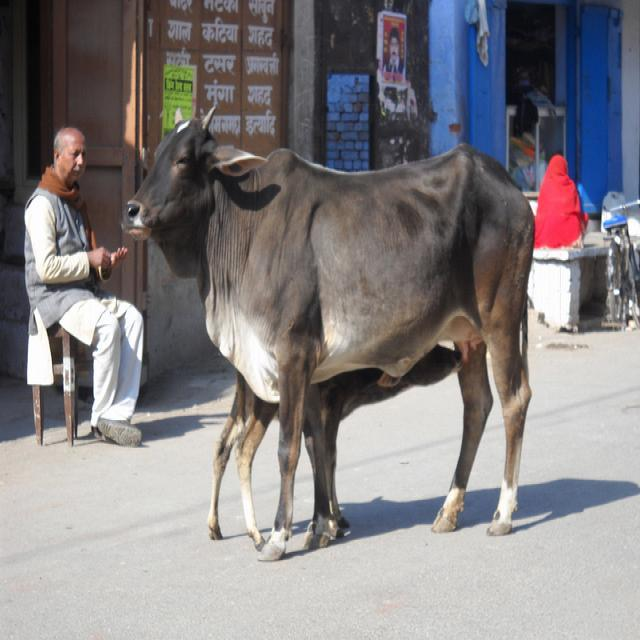cow: (120, 103, 535, 561), (207, 340, 458, 547)
